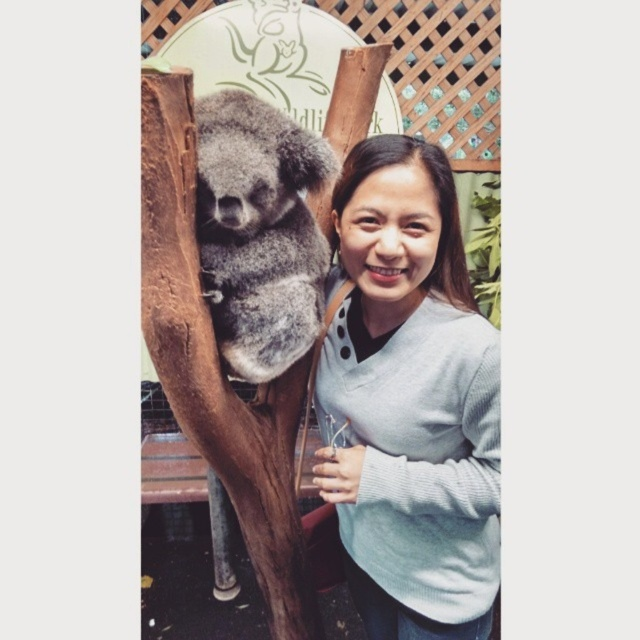Koala: (194, 91, 344, 380)
